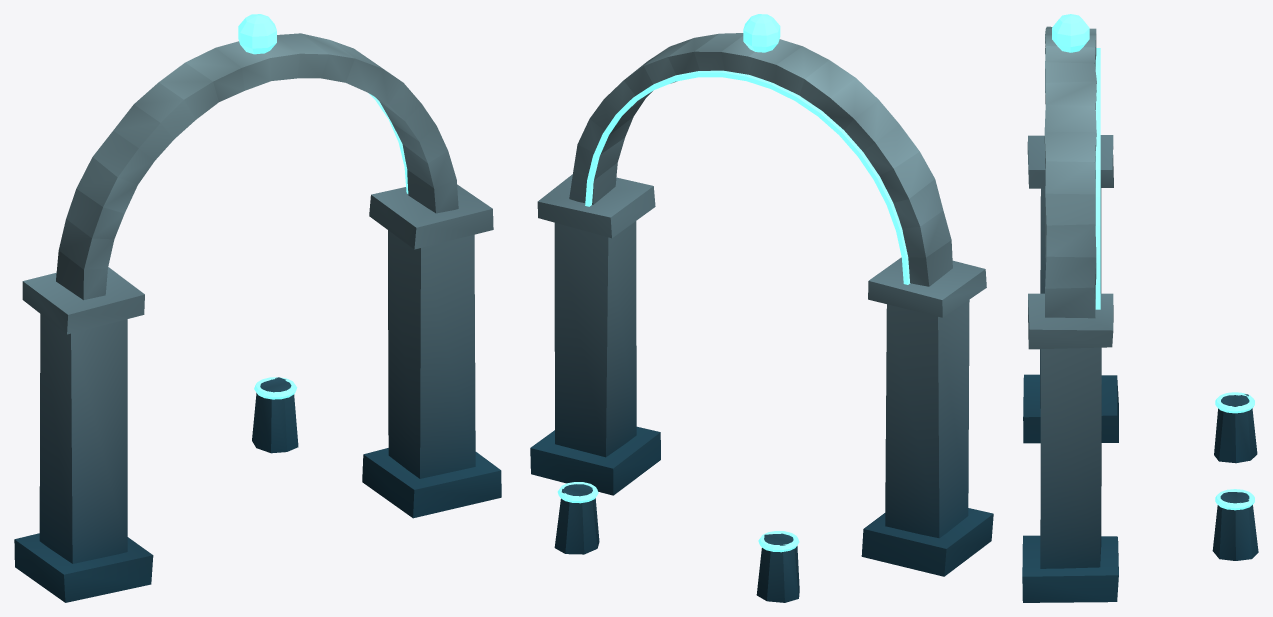
File: ruin_station_dock_gate.glb
3 renders of one model, left to right at view 1: azimuth 30°, elevation 25°; view 2: azimuth 150°, elevation 25°; view 3: azimuth 270°, elevation 25°, orthographic. The views are drawn at different scales.
Visible parts, largest first — view 1: ruin_station_dock_gate_stone, ruin_station_dock_gate_glow; view 2: ruin_station_dock_gate_stone, ruin_station_dock_gate_glow; view 3: ruin_station_dock_gate_stone, ruin_station_dock_gate_glow.
Part boxes in pixels (bbox=[...]): ruin_station_dock_gate_stone: bbox=[14, 33, 501, 602]; ruin_station_dock_gate_glow: bbox=[238, 14, 408, 399]; ruin_station_dock_gate_stone: bbox=[530, 33, 993, 602]; ruin_station_dock_gate_glow: bbox=[557, 14, 910, 552]; ruin_station_dock_gate_stone: bbox=[1022, 26, 1258, 602]; ruin_station_dock_gate_glow: bbox=[1052, 14, 1254, 510].
Size of the model in its own units: 9.54 by 10.82 by 4.74.
